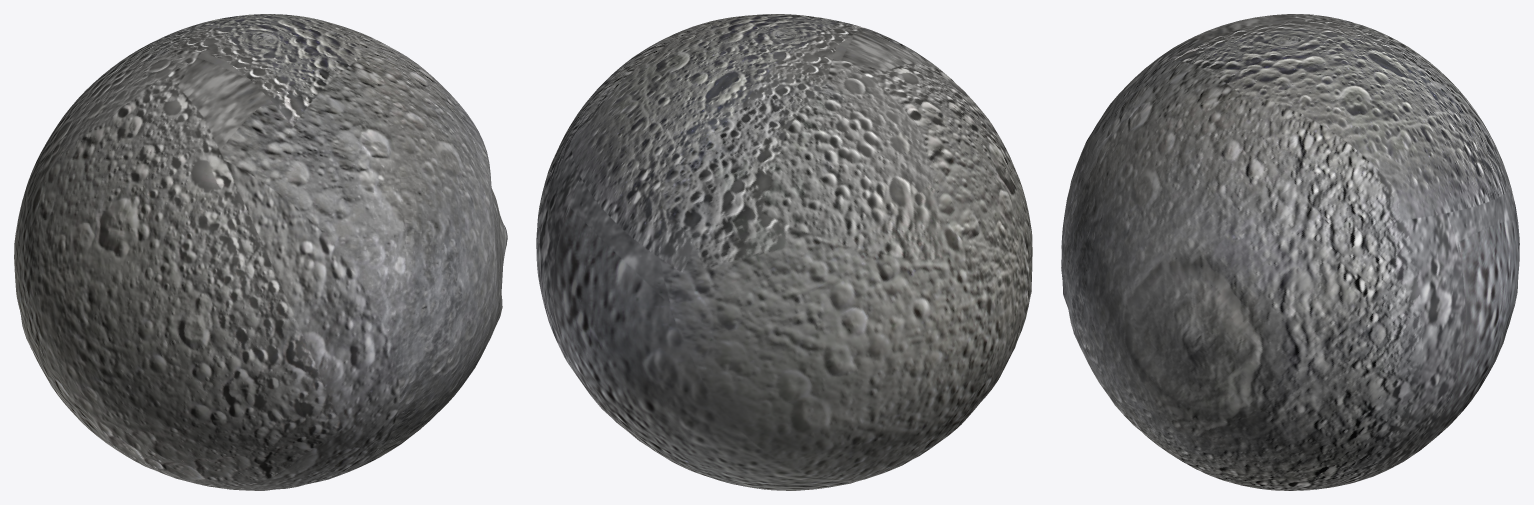
The model's file is mimas.gltf.
The picture shows the model from 3 angles, left to right: view 1: azimuth 30°, elevation 25°; view 2: azimuth 150°, elevation 25°; view 3: azimuth 270°, elevation 25°; orthographic projection.
Parts seen in each view (by area): view 1: Mimas; view 2: Mimas; view 3: Mimas.
Part boxes in pixels (left/top/right/bottom): Mimas: left=14, top=14, right=507, bottom=490; Mimas: left=536, top=14, right=1032, bottom=490; Mimas: left=1061, top=14, right=1519, bottom=490.
Size of the model in its own units: 416 by 393 by 381.
Materials: 1 (1 with a texture image).
